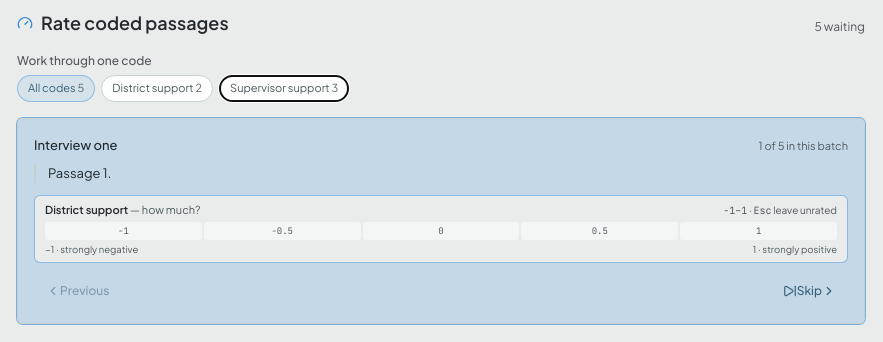
#1467 — the chip pressed stays while its queue loads › focus stays on the pressed chip, and the row keeps its counts — never "All codes 0"
Expected: the text "Passage 1." is shown, [34,162,848,182]
What coordinates should you click on to do the following:
click the button "Supervisor support 3"
I would click on:
 (284, 88)
Its box is [219,75,349,102].
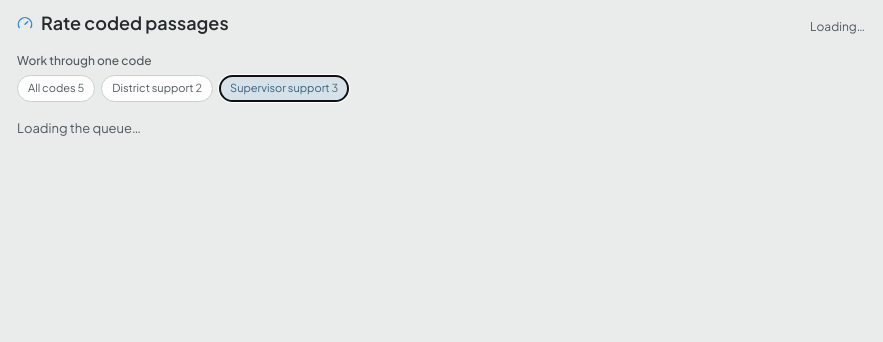
Expected: the text "Loading the queue…" is shown, [17,120,141,136]
